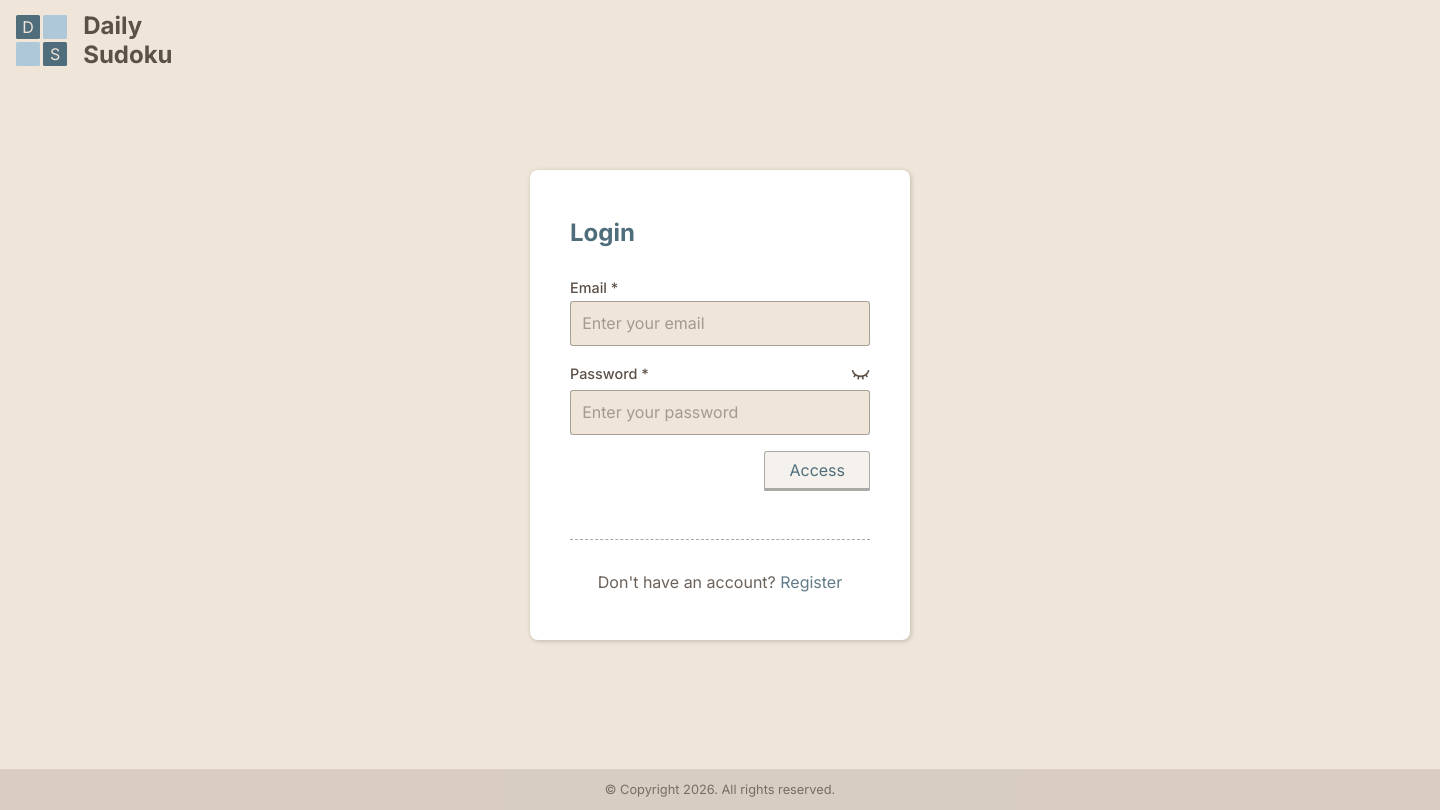
Test case: Login Page › shows validation errors for empty form submission
Type "a@b.com" into the field labelled "Email *" at (720, 323), box [570,301,870,346]
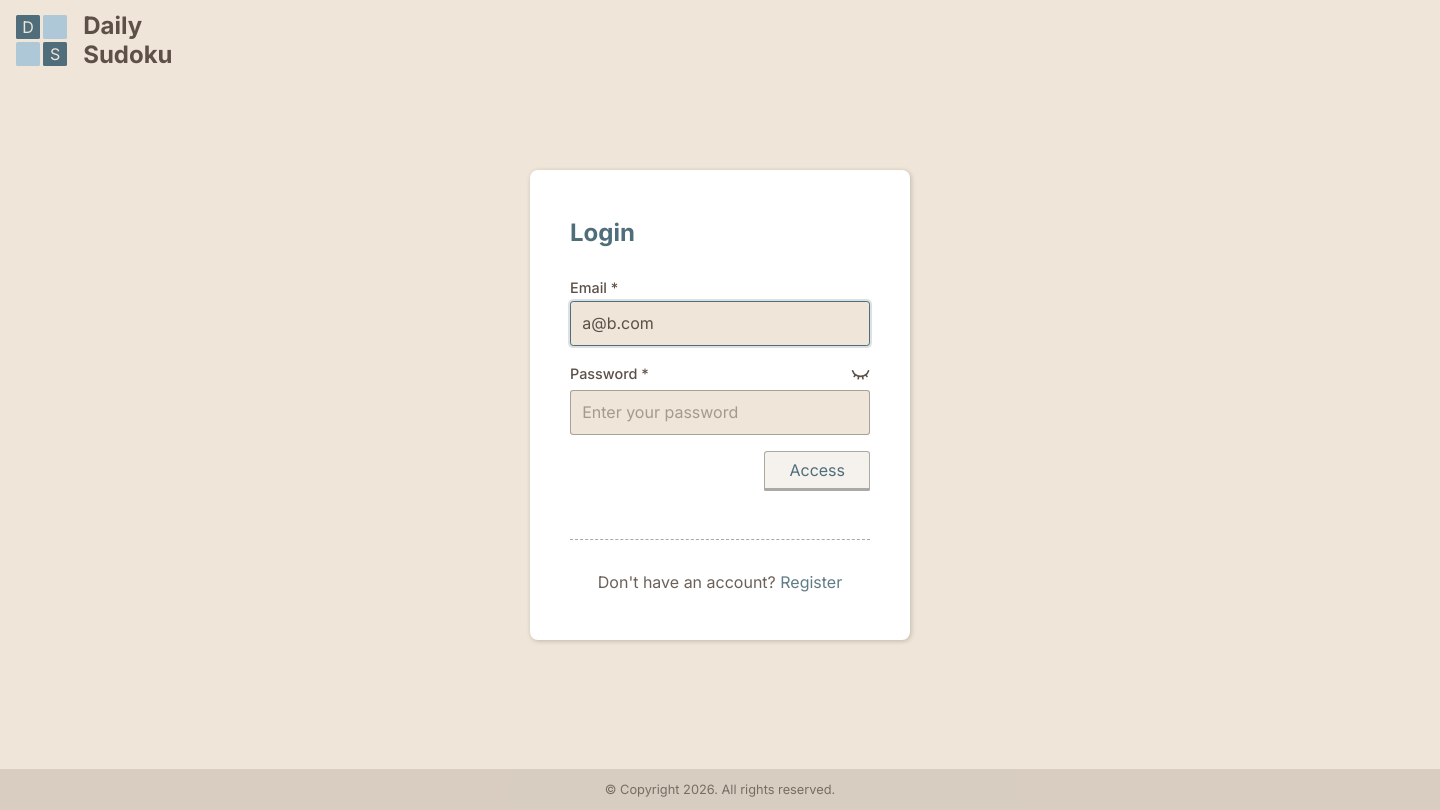
Type "some-password-invalid" into the password field labelled "Password *" at (720, 412), box [570,390,870,435]
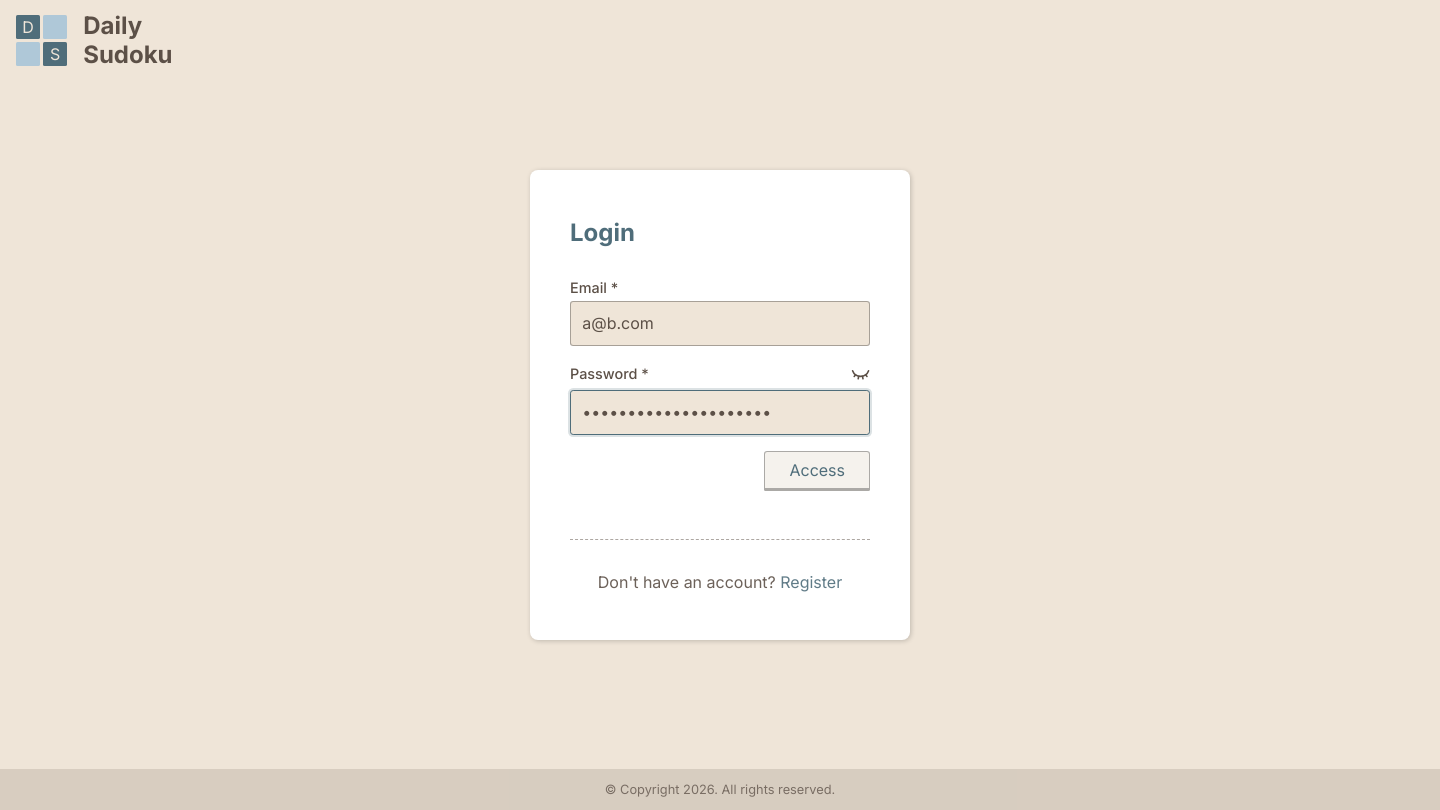
Click the button "Access" at (817, 471), box [764,451,870,491]
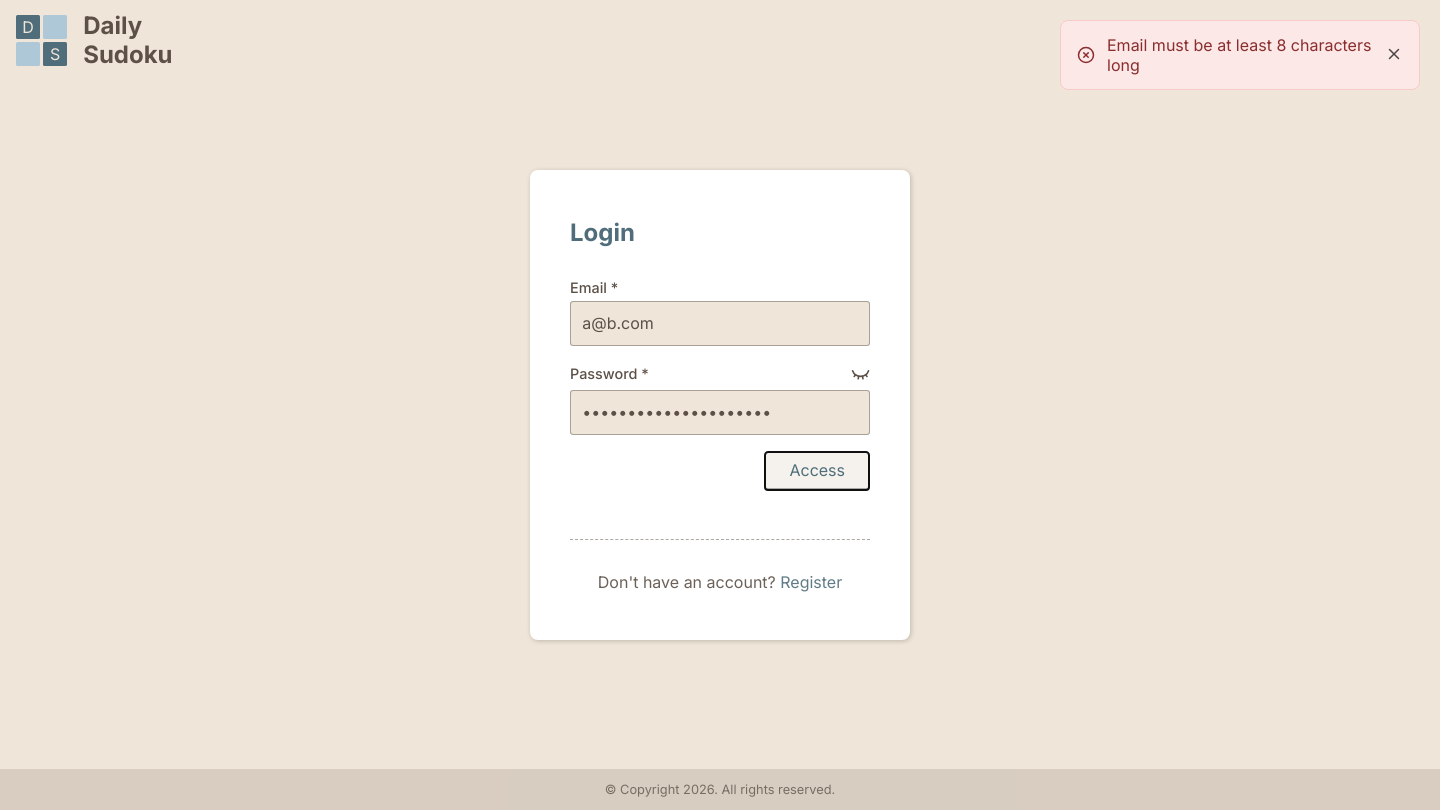
expect the text "Email must be at least 8 characters long" is shown: met, box [1107,35,1373,75]
